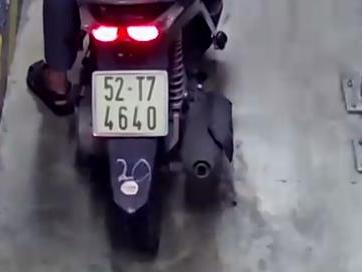num_plate: (91, 72, 168, 137)
